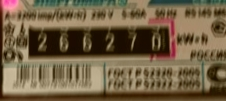0: (152, 33, 164, 50)
2: (37, 33, 50, 51), (106, 33, 117, 51)
6: (60, 33, 72, 51), (83, 34, 95, 52)
7: (129, 32, 140, 51)
screen: (20, 16, 183, 67)
